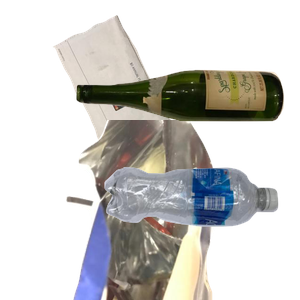glass: (74, 67, 300, 181)
paper: (51, 13, 230, 186)
plastic: (102, 165, 300, 300)
trash: (63, 120, 300, 300)
